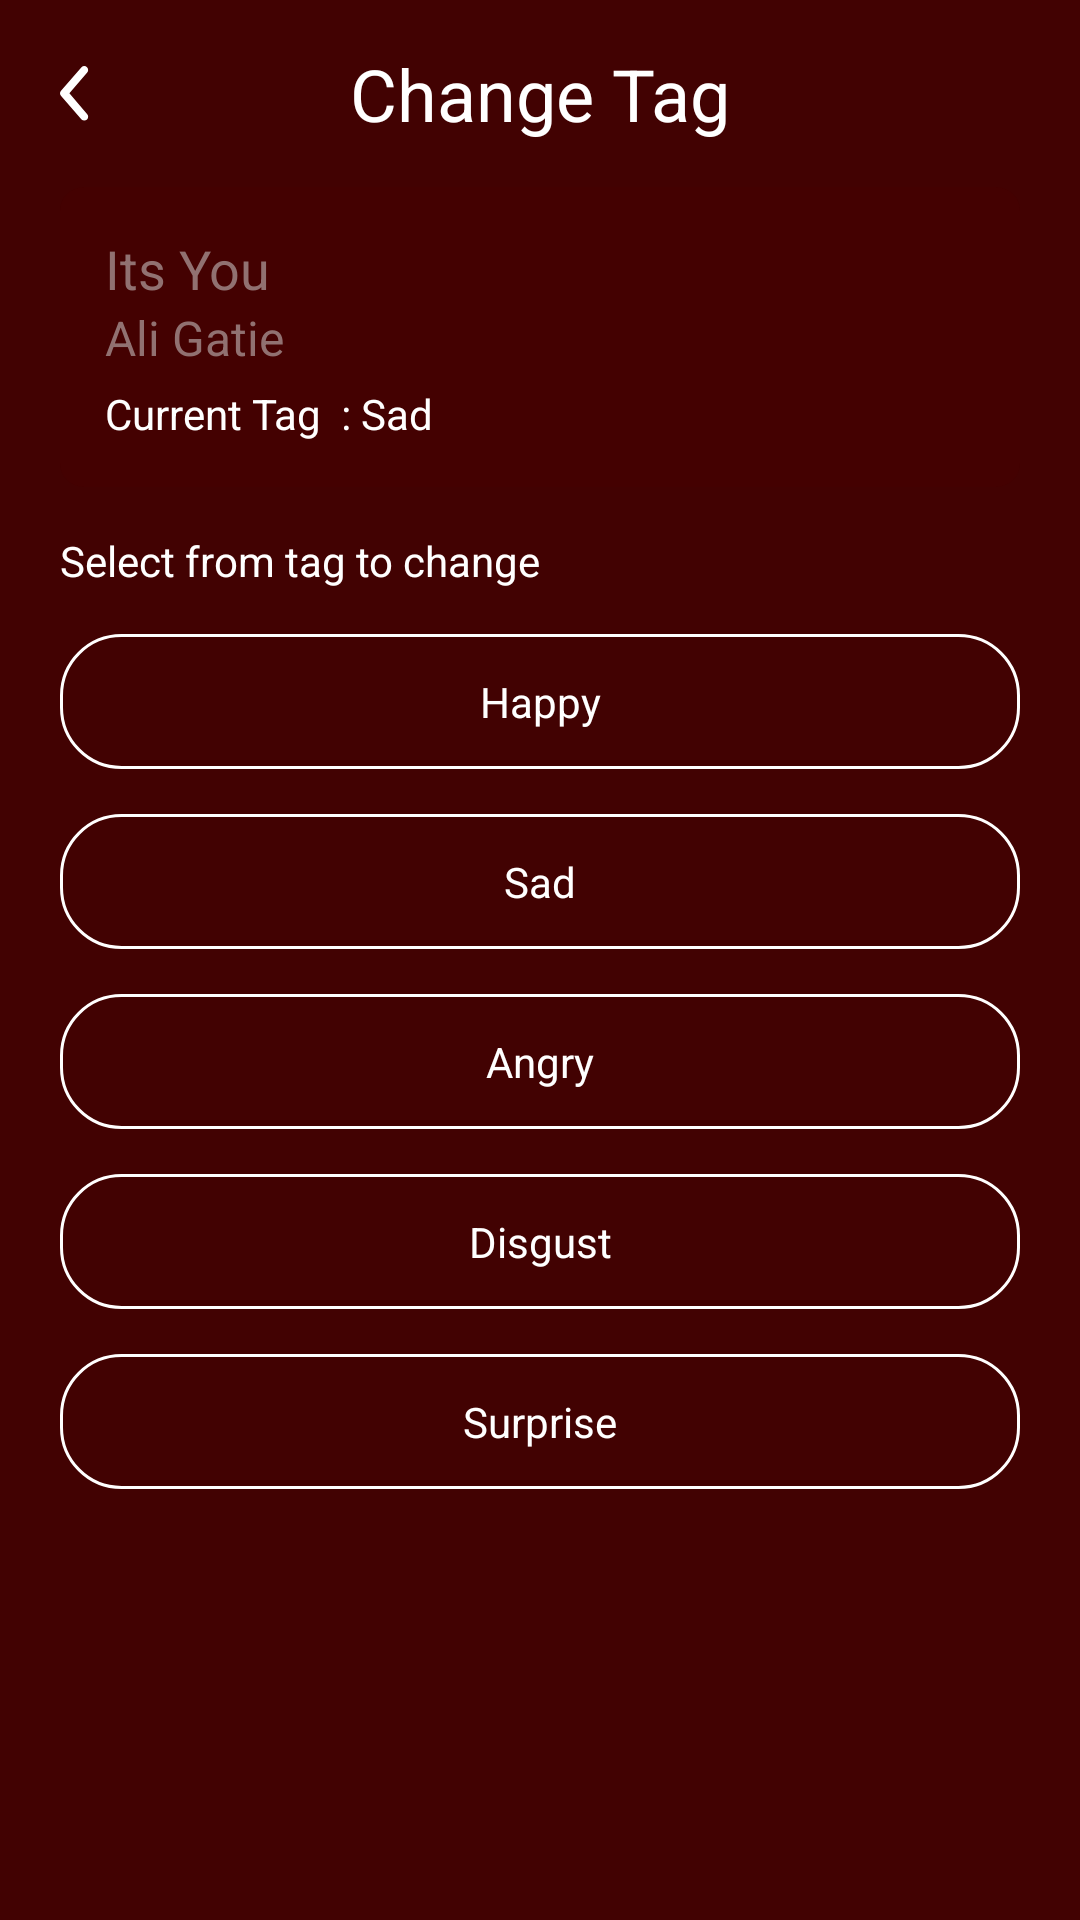

Screen size 1080 × 1920. Icon name, then its center in pixels as point (x, y):
back: point (74, 93)
